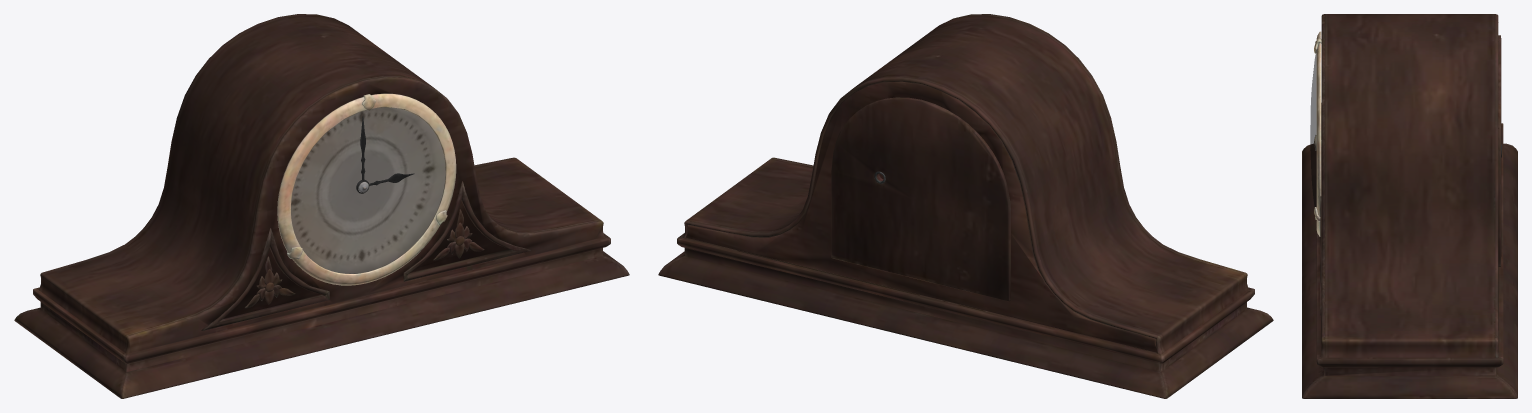
The model's file is mantel_clock.glb.
The picture shows the model from 3 angles, left to right: view 1: azimuth 30°, elevation 25°; view 2: azimuth 150°, elevation 25°; view 3: azimuth 270°, elevation 25°; orthographic projection.
Visible parts, largest first — view 1: mantel_clock_01, mantel_clock_01_glass; view 2: mantel_clock_01; view 3: mantel_clock_01, mantel_clock_01_glass.
Part boxes in pixels (x1,y1,x2,y2): mantel_clock_01: (14, 14, 629, 398); mantel_clock_01_glass: (291, 107, 445, 273); mantel_clock_01: (658, 14, 1273, 398); mantel_clock_01: (1302, 14, 1517, 398); mantel_clock_01_glass: (1310, 53, 1316, 206).
Size of the model in its own units: 0.3423 by 0.1604 by 0.126.
2 materials, 2 textured.
